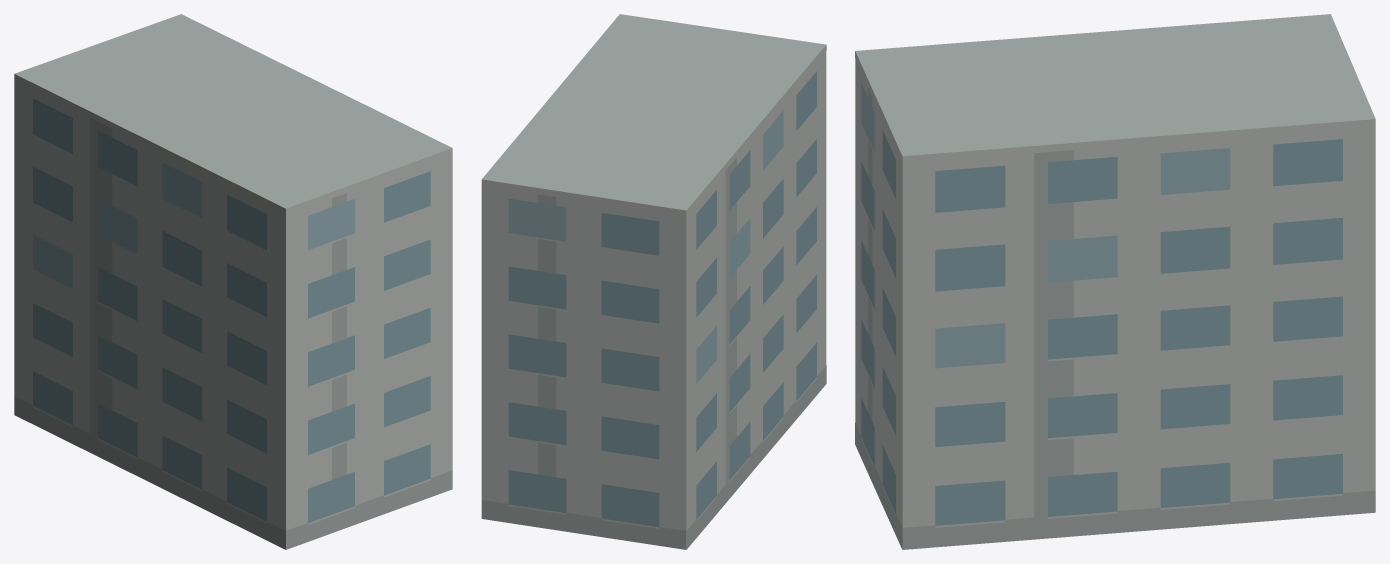
File: survey-upis-32882584.glb
The picture shows the model from 3 angles, left to right: view 1: azimuth 30°, elevation 25°; view 2: azimuth 150°, elevation 25°; view 3: azimuth 270°, elevation 25°; orthographic projection. The views are drawn at different scales.
Parts seen in each view (by area): view 1: survey-upis-32882584.tmp; view 2: survey-upis-32882584.tmp; view 3: survey-upis-32882584.tmp.
Part boxes in pixels (<box>): survey-upis-32882584.tmp: <box>14,14,452,549</box>; survey-upis-32882584.tmp: <box>481,14,826,549</box>; survey-upis-32882584.tmp: <box>855,14,1375,549</box>.
Bounding box in the file's own units: 10.16 × 13.1 × 15.71.
